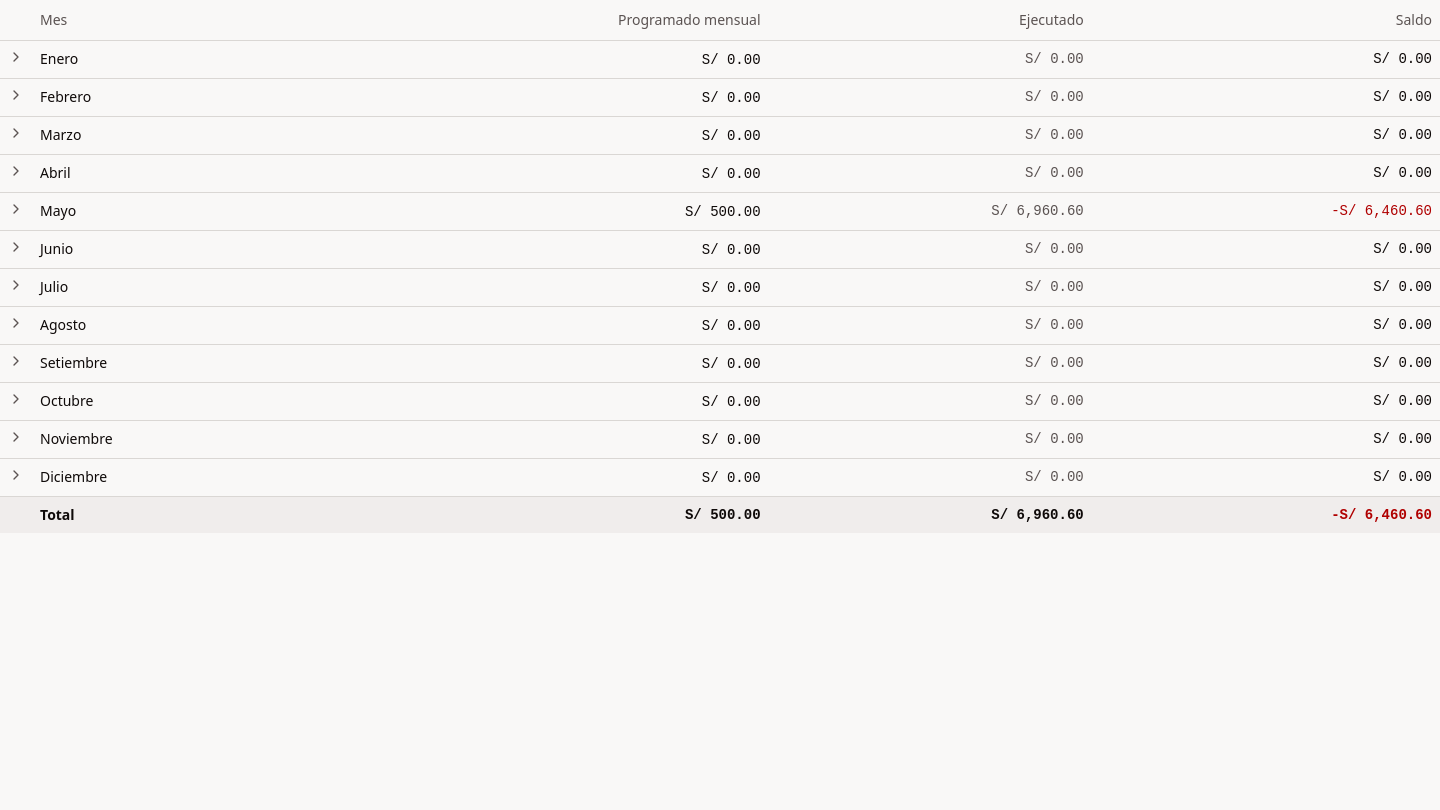
Scenario: MonthlyTable › renders the exact reconciled provenance breakdown
Click the text "Mayo": (58, 210) 32,192 -> 296,230
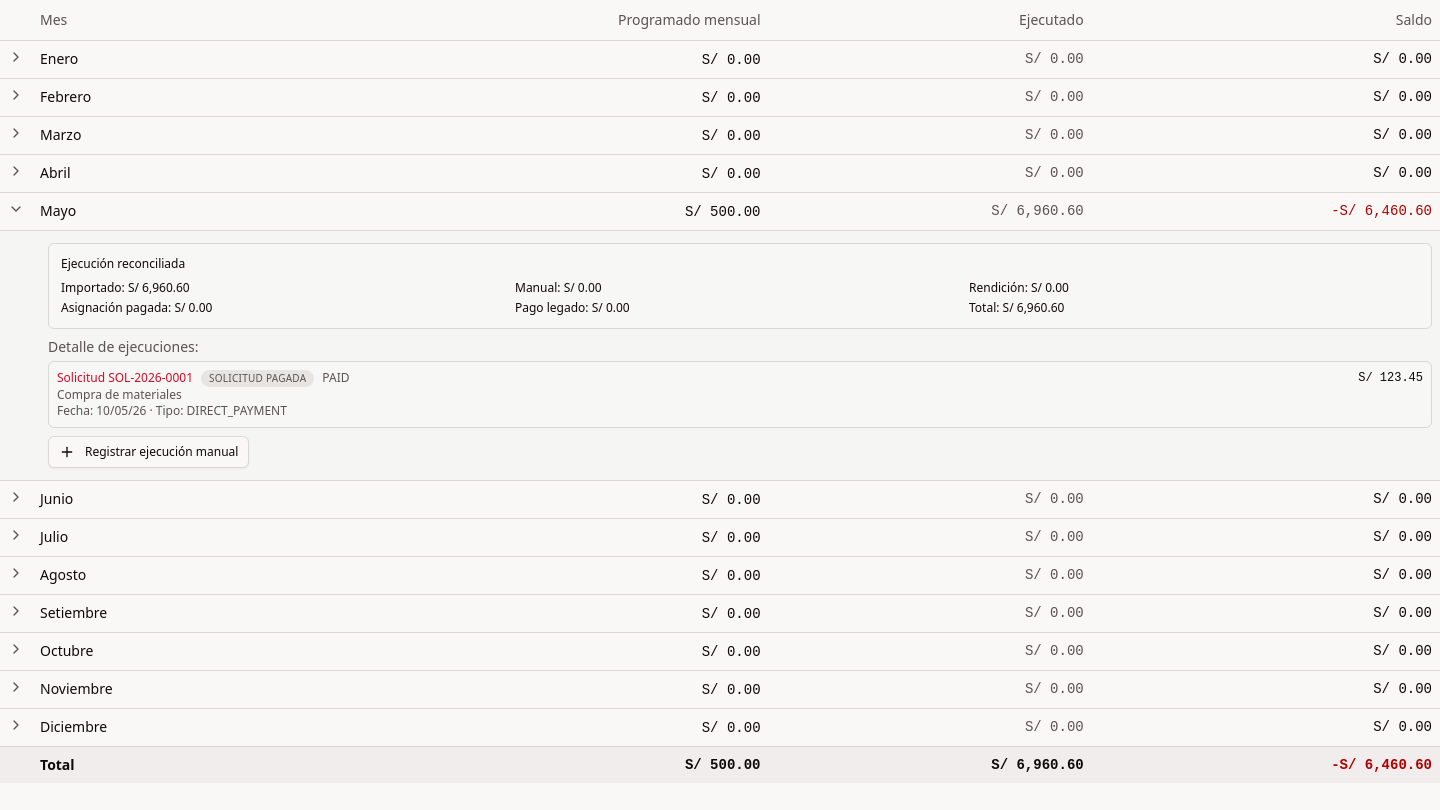
Now the text "Ejecución reconciliada" is shown, box 61,254 -> 185,272
Now the text "Importado: S/ 6,960.60" is shown, box 61,278 -> 190,296
Now the text "Total: S/ 6,960.60" is shown, box 969,298 -> 1064,316
